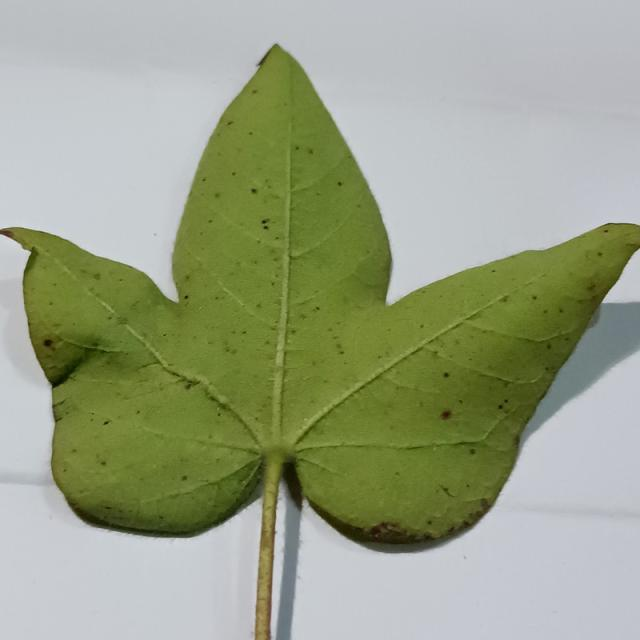Bacterial_Blight: (370, 522, 404, 538), (439, 405, 459, 425), (181, 378, 196, 390), (0, 229, 15, 240), (43, 338, 54, 347), (500, 295, 509, 302), (587, 284, 596, 291), (469, 448, 476, 455), (261, 219, 269, 225), (262, 224, 269, 230), (103, 420, 110, 426), (181, 475, 188, 481), (443, 372, 449, 378), (214, 192, 220, 198), (498, 404, 504, 410), (597, 251, 603, 257), (251, 188, 257, 194), (100, 460, 106, 466), (531, 295, 537, 300), (183, 294, 189, 299), (337, 181, 342, 186), (603, 229, 609, 233), (491, 269, 496, 273), (249, 132, 253, 136)
Cotton: (0, 45, 639, 639)
